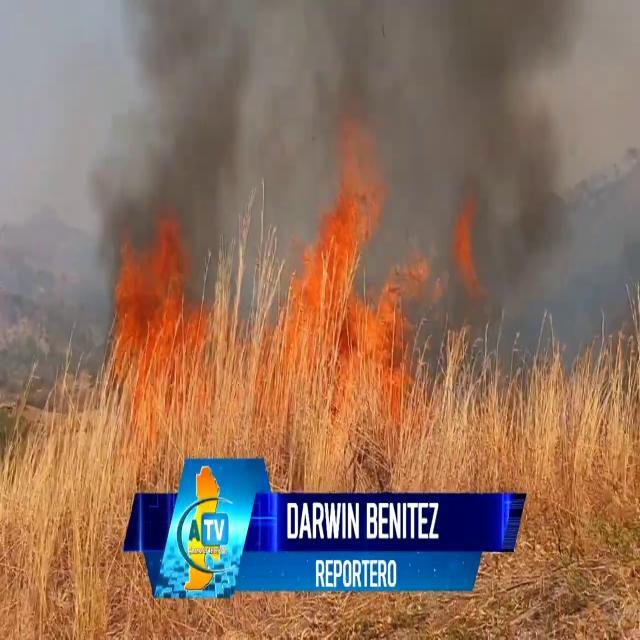Fire: (277, 124, 418, 410), (100, 212, 206, 406)
Smoke: (45, 0, 636, 308)
